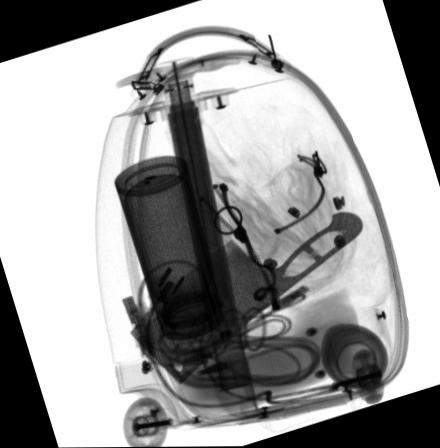Knife: (130, 211, 363, 383)
